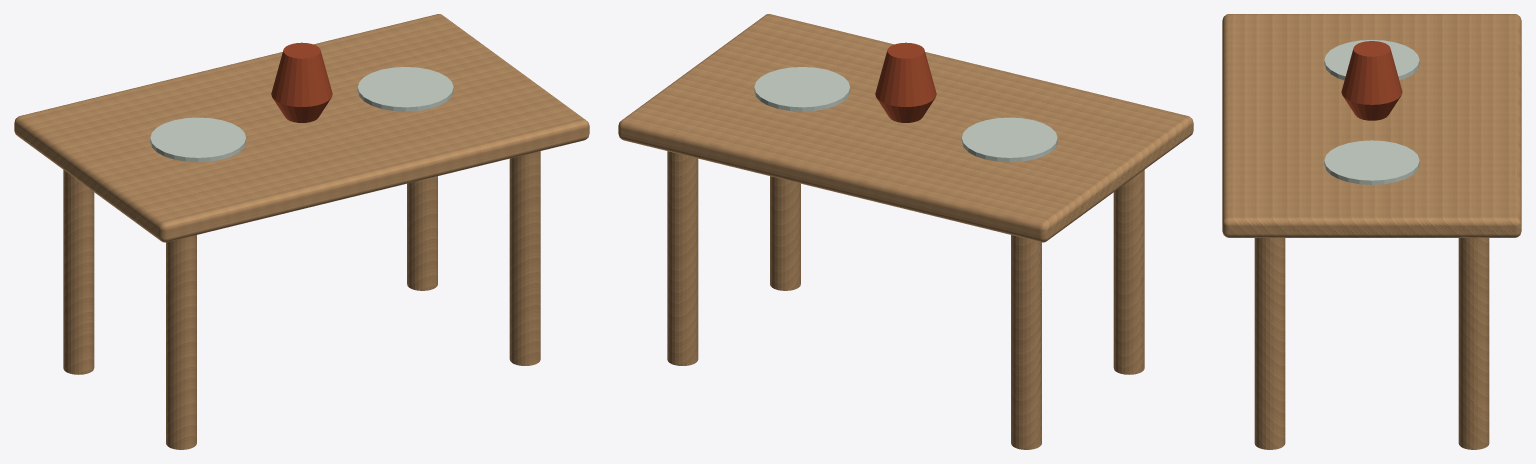
File: dining_table.dae
The picture shows the model from 3 angles, left to right: view 1: azimuth 30°, elevation 25°; view 2: azimuth 150°, elevation 25°; view 3: azimuth 270°, elevation 25°; orthographic projection.
Parts seen in each view (by area): view 1: oak, ceramic, terra; view 2: oak, ceramic, terra; view 3: oak, ceramic, terra.
Boxes of the visible parts, box(x1,y1,x2,y2) form: oak: box(14, 14, 589, 449); ceramic: box(150, 67, 453, 162); terra: box(271, 42, 332, 122); oak: box(618, 14, 1193, 449); ceramic: box(754, 67, 1057, 162); terra: box(875, 42, 936, 122); oak: box(1222, 14, 1521, 449); ceramic: box(1324, 40, 1419, 184); terra: box(1341, 41, 1402, 120).
Size of the model in its own units: 1.45 by 0.88 by 1.01.
Materials: 3 (1 with a texture image).
